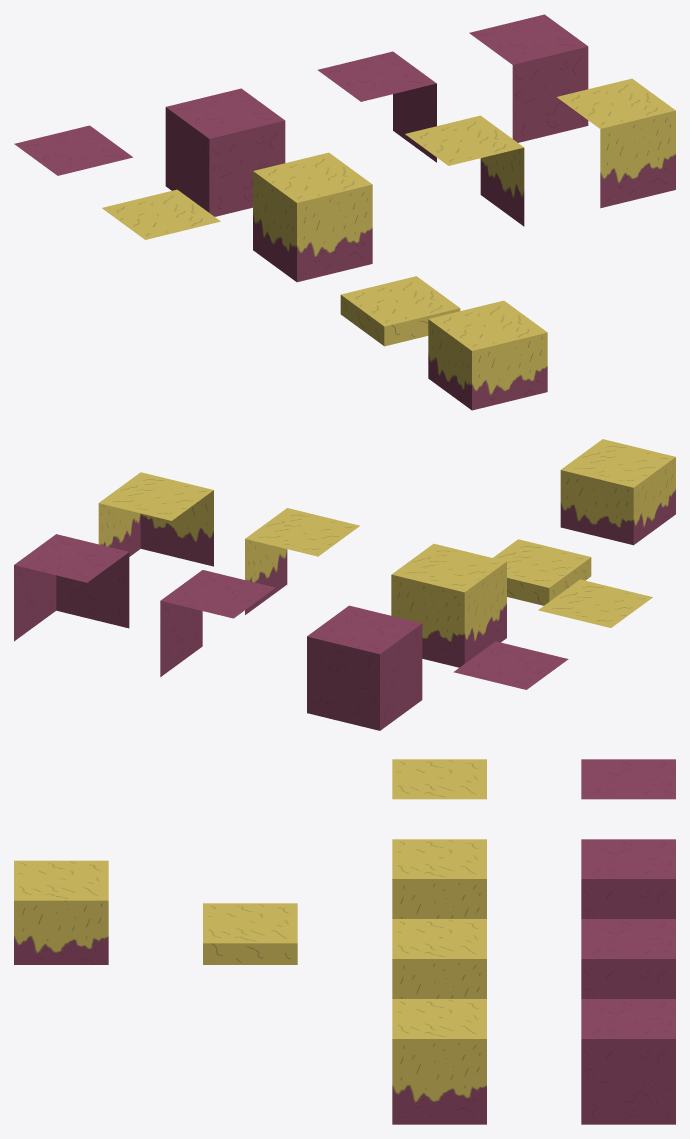
The model's file is test_stage_blender.gltf.
The picture shows the model from 3 angles, top to bottom: view 1: azimuth 30°, elevation 25°; view 2: azimuth 150°, elevation 25°; view 3: azimuth 270°, elevation 25°; orthographic projection. The views are drawn at different scales.
Parts seen in each view (by area): view 1: Grass, Dirt, GrassHalf, GrassV3, DirtV3, GrassV2, DirtV2, GrassBit, GrassUp, DirtUp; view 2: Dirt, Grass, GrassHalf, DirtV3, GrassV3, DirtV2, GrassV2, GrassBit, DirtUp, GrassUp; view 3: GrassV3, DirtV3, GrassHalf, Grass, Dirt, GrassV2, DirtV2, GrassBit, GrassUp, DirtUp.
Part boxes in pixels (box(x1,y1,x2,y2)): Grass: box(253, 152, 372, 282); Dirt: box(165, 88, 285, 216); GrassHalf: box(428, 300, 547, 410); GrassV3: box(557, 78, 675, 208); DirtV3: box(469, 14, 588, 142); GrassV2: box(405, 115, 524, 226); DirtV2: box(318, 51, 436, 162); GrassBit: box(340, 276, 460, 346); GrassUp: box(102, 189, 220, 239); DirtUp: box(14, 125, 132, 175); Dirt: box(307, 605, 422, 730); Grass: box(391, 543, 506, 667); GrassHalf: box(560, 439, 675, 545); DirtV3: box(14, 534, 129, 641); GrassV3: box(98, 472, 213, 566); DirtV2: box(160, 570, 275, 676); GrassV2: box(245, 508, 359, 614); GrassBit: box(493, 539, 591, 605); DirtUp: box(453, 641, 568, 689); GrassUp: box(538, 579, 652, 627); GrassV3: box(392, 999, 486, 1124); DirtV3: box(581, 999, 675, 1124); GrassHalf: box(14, 860, 108, 964); Grass: box(392, 839, 486, 918); Dirt: box(581, 839, 675, 918); GrassV2: box(392, 919, 486, 998); DirtV2: box(581, 919, 675, 998); GrassBit: box(203, 903, 297, 964); GrassUp: box(392, 759, 486, 799); DirtUp: box(581, 759, 675, 799).
Bounding box in the file's own units: 14 × 2 × 14.
